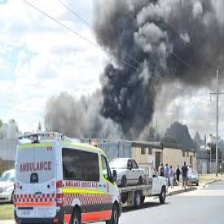smoke: (90, 1, 221, 132)
